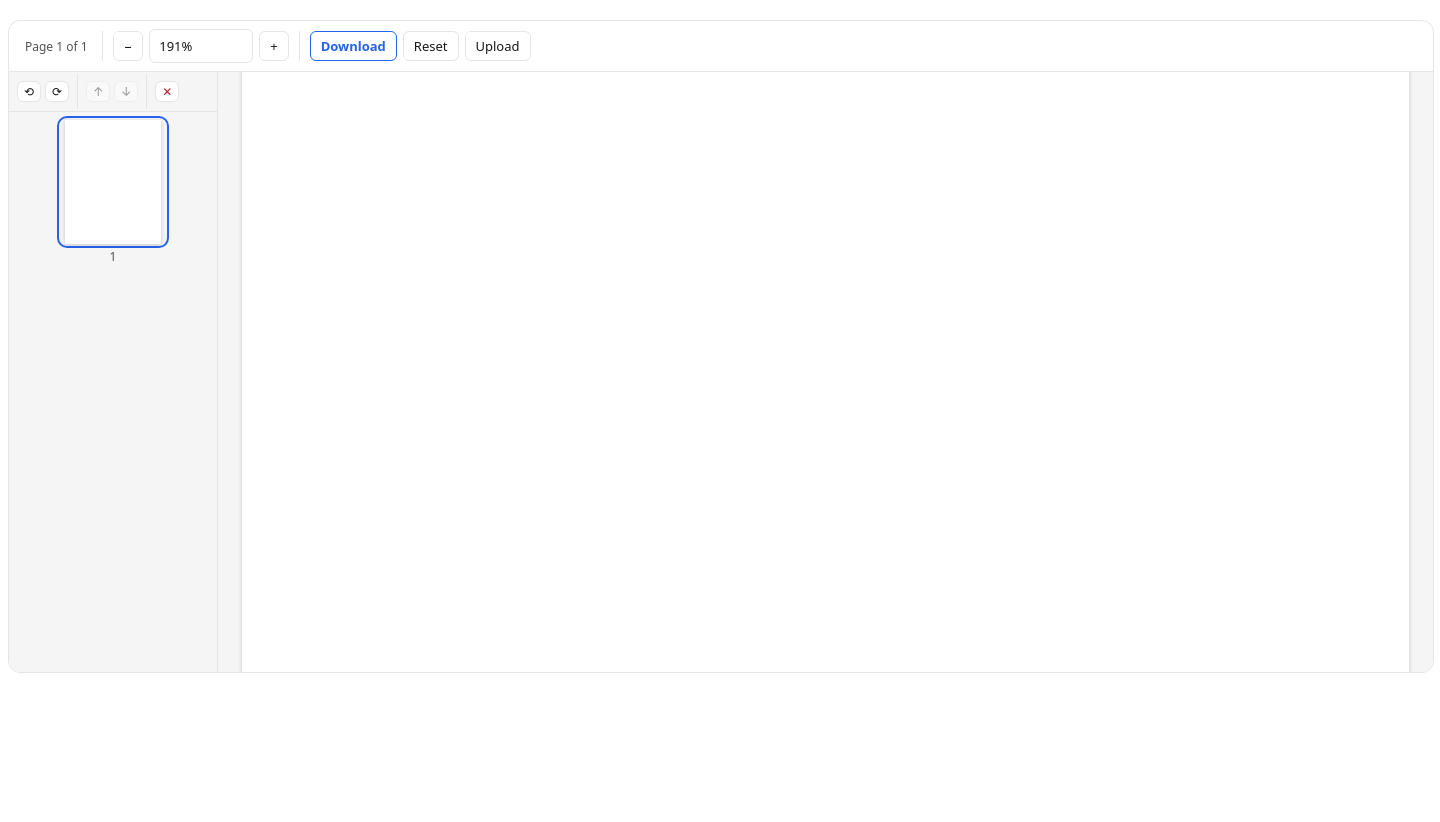
PdfEditor › refuses to delete the last page, like upstream
(page scrolled)
Expected: the text "Page 1 of 1" is shown, 21,38 -> 92,54
Click the button named "Delete pages": (167, 92) 155,81 -> 179,102
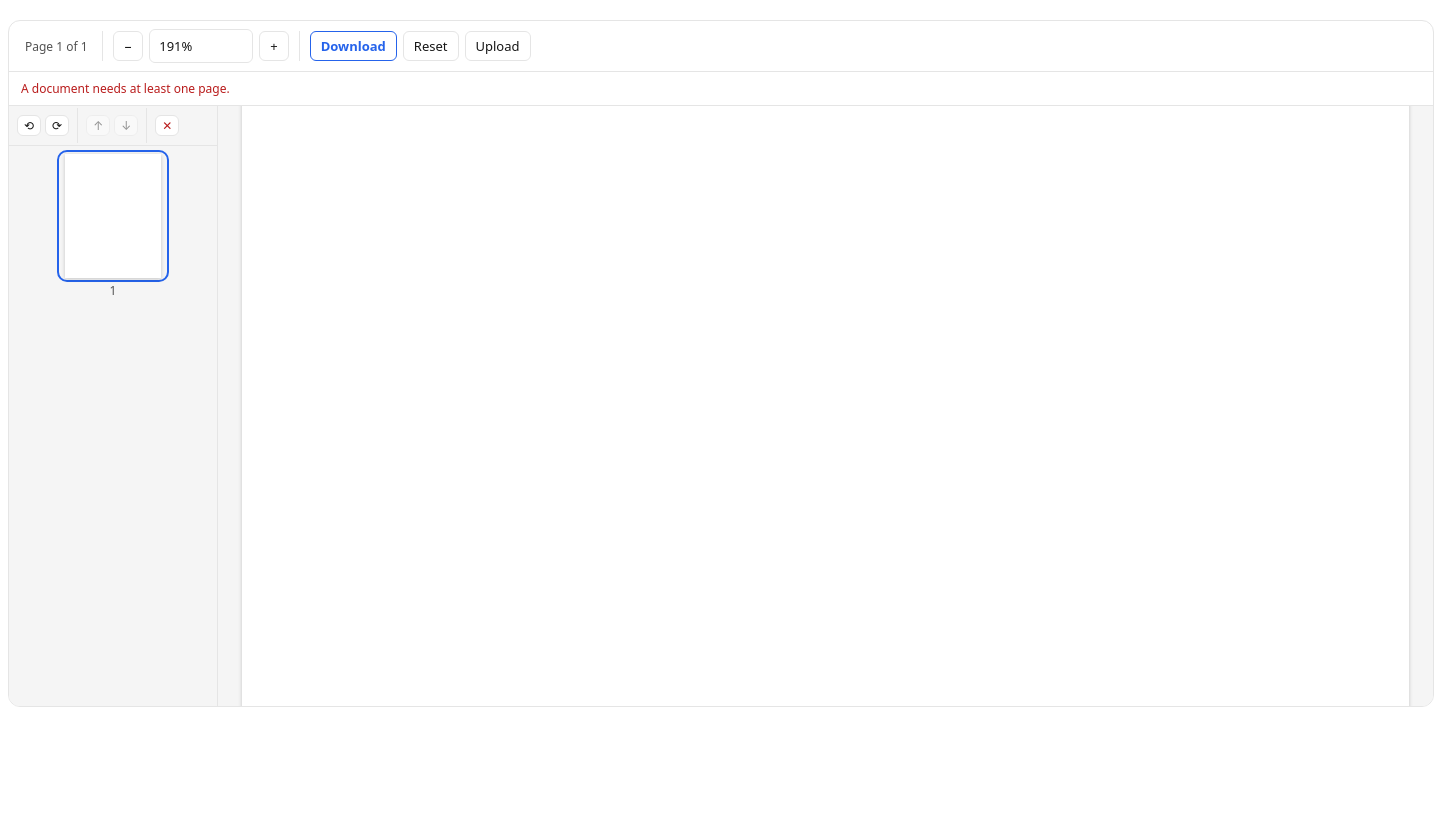
Expected: the message reads "A document needs at least one page.", 21,80 -> 230,97
